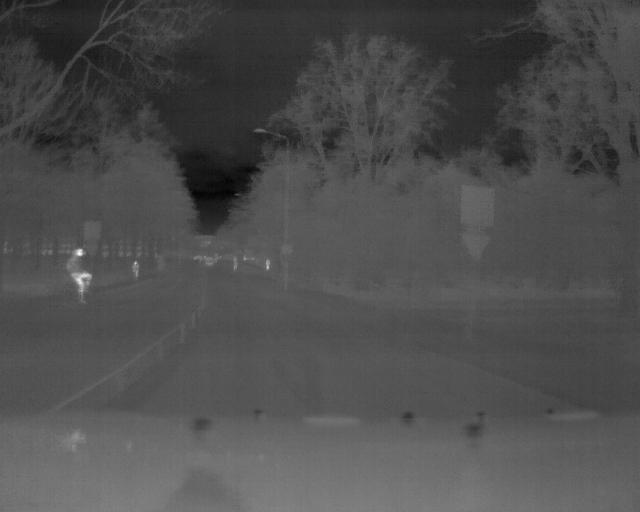person: (67, 242, 93, 305), (132, 258, 144, 283), (265, 256, 274, 271), (234, 256, 240, 271)
